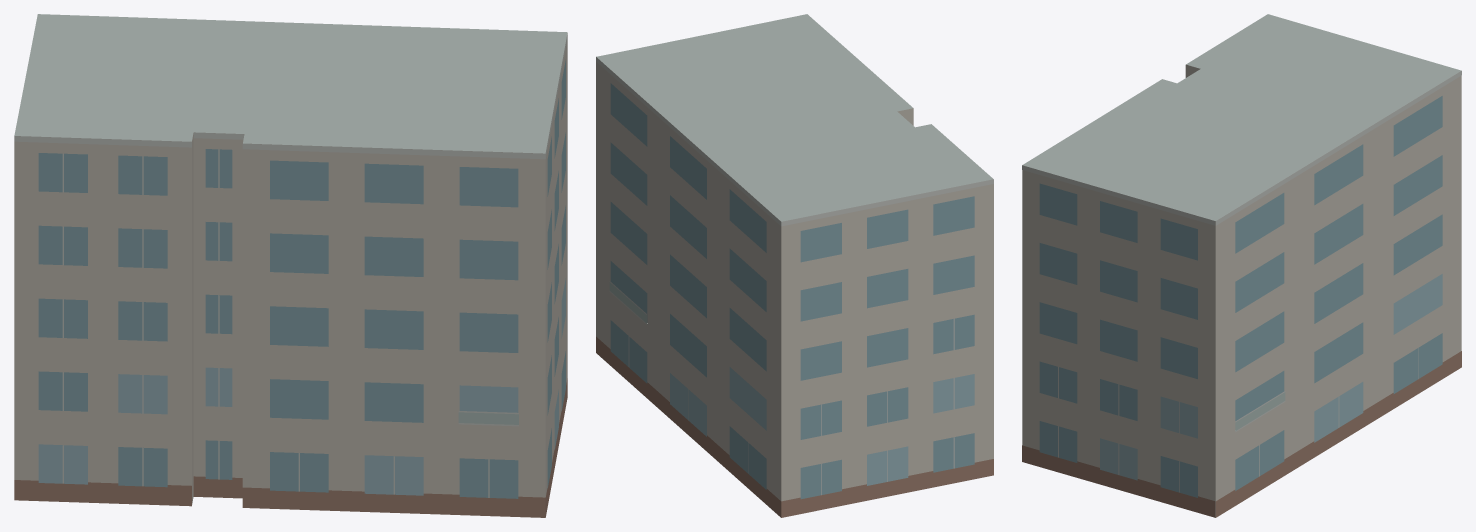
File: survey-upis-32552956.glb
3 renders of one model, left to right at view 1: azimuth 30°, elevation 25°; view 2: azimuth 150°, elevation 25°; view 3: azimuth 270°, elevation 25°, orthographic. The views are drawn at different scales.
Parts seen in each view (by area): view 1: survey-upis-32552956.tmp; view 2: survey-upis-32552956.tmp; view 3: survey-upis-32552956.tmp.
Boxes of the visible parts, bbox=[...] form: survey-upis-32552956.tmp: bbox=[14, 14, 567, 517]; survey-upis-32552956.tmp: bbox=[596, 14, 993, 517]; survey-upis-32552956.tmp: bbox=[1022, 14, 1461, 517].
Size of the model in its own units: 22.99 by 15.35 by 20.62.
